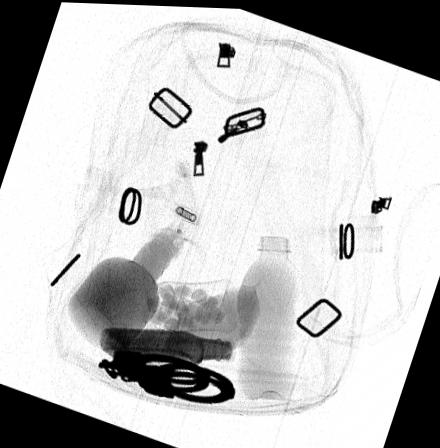HandCuffs: (96, 348, 236, 402)
